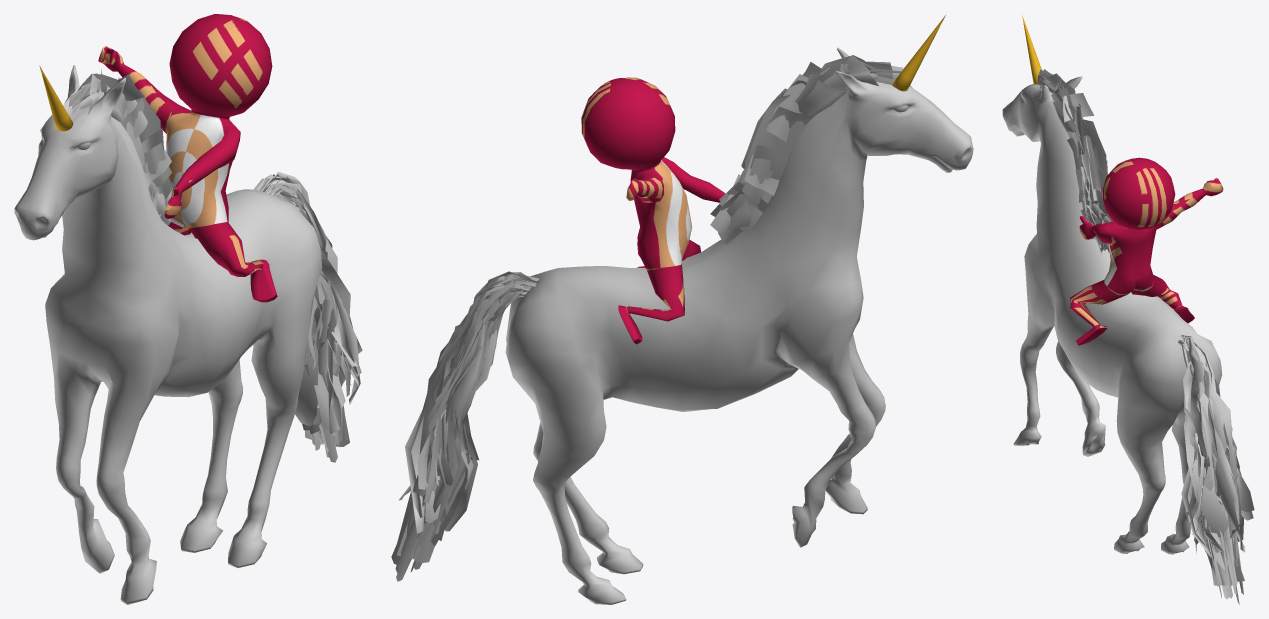
The model's file is hwan_unicorn.obj.
3 renders of one model, left to right at view 1: azimuth 30°, elevation 25°; view 2: azimuth 150°, elevation 25°; view 3: azimuth 270°, elevation 25°, orthographic. The views are drawn at different scales.
Visible parts, largest first — view 1: Horse, Virtual_Man, Cone001; view 2: Horse, Virtual_Man, Cone001; view 3: Horse, Virtual_Man, Cone001.
Part boxes in pixels (x1=…): Horse: x1=14, y1=65, x2=362, y2=604; Virtual_Man: x1=98, y1=14, x2=277, y2=302; Cone001: x1=39, y1=66, x2=73, y2=131; Horse: x1=391, y1=47, x2=973, y2=604; Virtual_Man: x1=581, y1=77, x2=725, y2=344; Cone001: x1=892, y1=15, x2=945, y2=91; Horse: x1=1002, y1=69, x2=1254, y2=604; Virtual_Man: x1=1070, y1=157, x2=1223, y2=345; Cone001: x1=1022, y1=14, x2=1041, y2=84.
Size of the model in its own units: 1.63 by 2.02 by 1.04.
